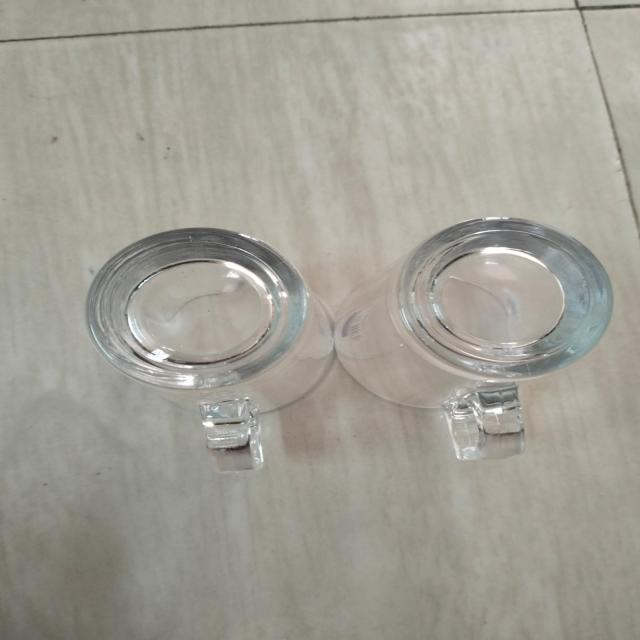glass-VX4N: (339, 213, 640, 440), (90, 227, 310, 452)
